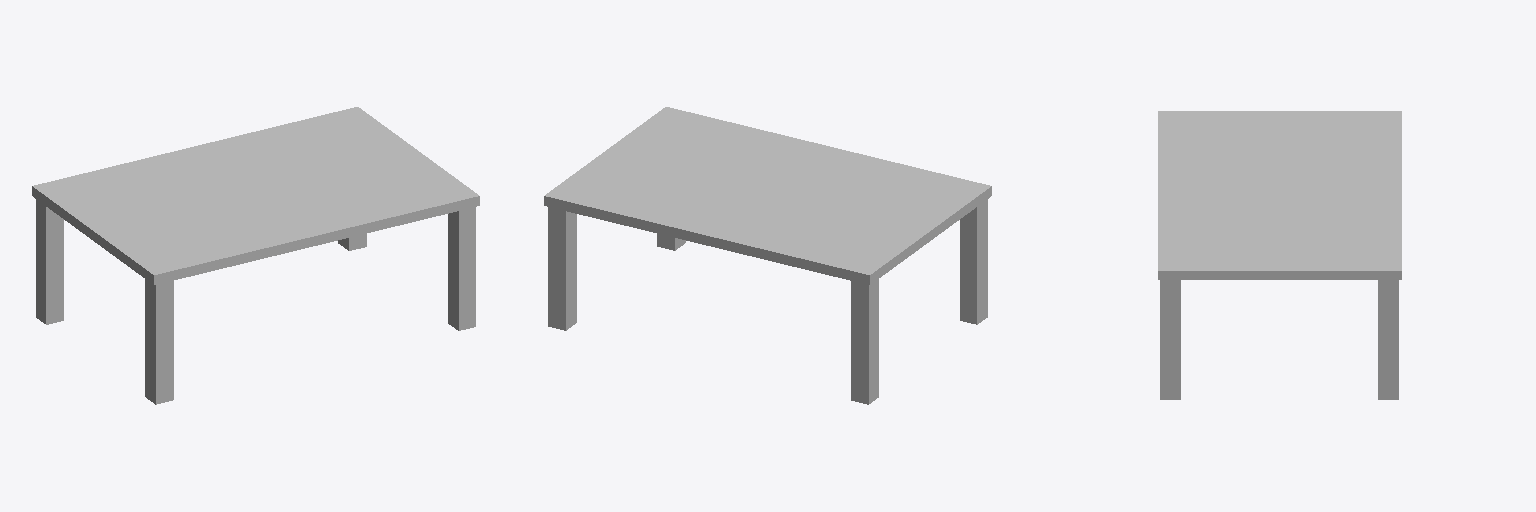
File: dinningtable.obj
The picture shows the model from 3 angles: view 1: azimuth 30°, elevation 25°; view 2: azimuth 150°, elevation 25°; view 3: azimuth 270°, elevation 25°; orthographic projection.
Size of the model in its own units: 15.4 by 5.95 by 9.99.